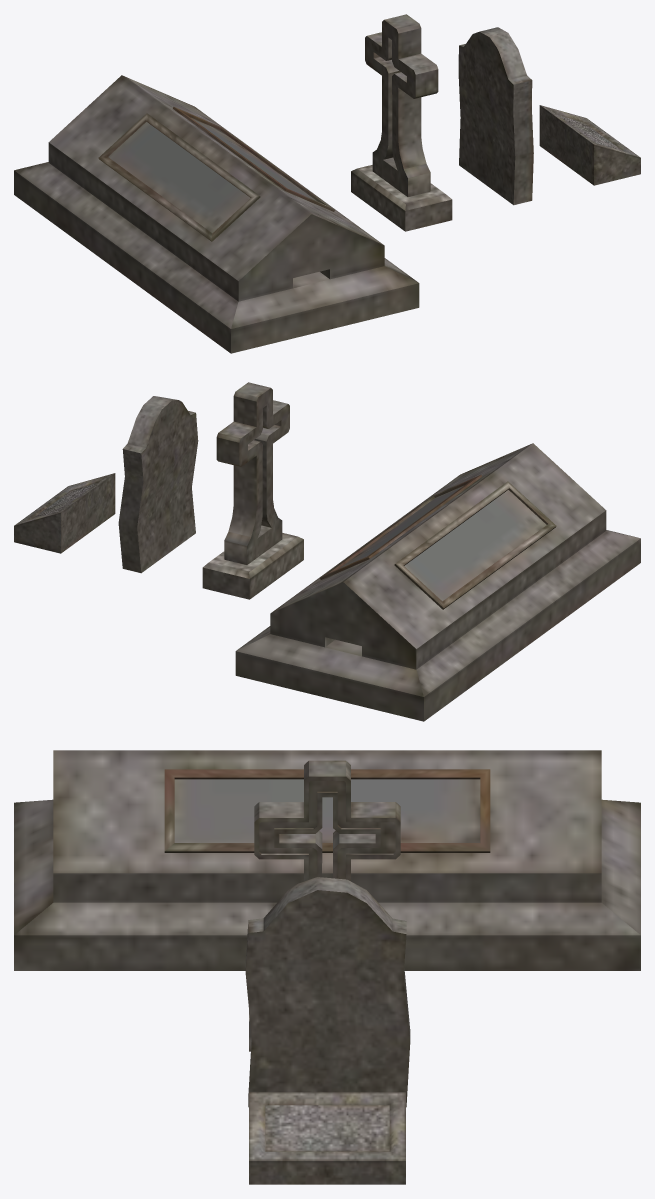
The model's file is grave-row.lod0.glb.
3 renders of one model, top to bottom at view 1: azimuth 30°, elevation 25°; view 2: azimuth 150°, elevation 25°; view 3: azimuth 270°, elevation 25°, orthographic. The views are drawn at different scales.
Parts seen in each view (by area): view 1: Grave1_Graves_0; view 2: Grave1_Graves_0; view 3: Grave1_Graves_0.
Part boxes in pixels (bbox=[...]): Grave1_Graves_0: bbox=[14, 14, 640, 353]; Grave1_Graves_0: bbox=[14, 382, 640, 721]; Grave1_Graves_0: bbox=[14, 750, 640, 1184].
Size of the model in its own units: 3.2 by 1.15 by 2.45.
Materials: 1 (1 with a texture image).
